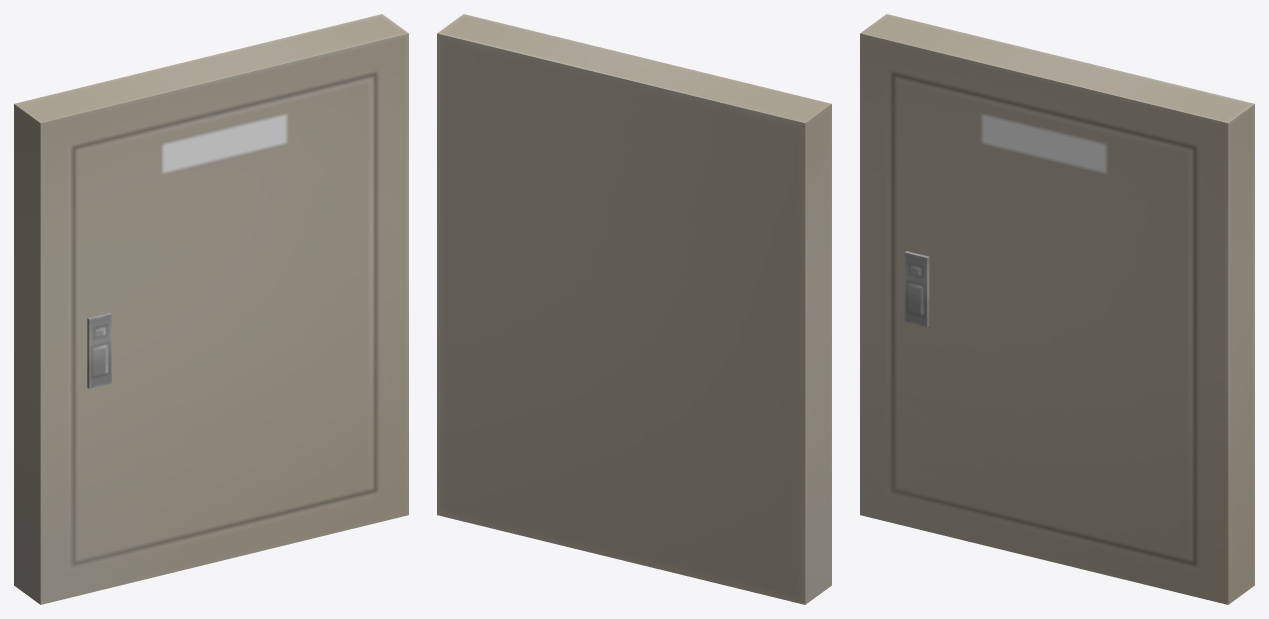
The model's file is SHW_Ceiling_parts_01_04.fbx.
The picture shows the model from 3 angles, left to right: view 1: azimuth 30°, elevation 25°; view 2: azimuth 150°, elevation 25°; view 3: azimuth 330°, elevation 25°; orthographic projection.
Parts seen in each view (by area): view 1: shw_ceiling_parts_01_04; view 2: shw_ceiling_parts_01_04; view 3: shw_ceiling_parts_01_04.
Boxes of the visible parts, x1=… form: shw_ceiling_parts_01_04: x1=14, y1=14, x2=408, y2=604; shw_ceiling_parts_01_04: x1=437, y1=14, x2=831, y2=604; shw_ceiling_parts_01_04: x1=860, y1=14, x2=1254, y2=604.
Size of the model in its own units: 40 by 50 by 5.37.
